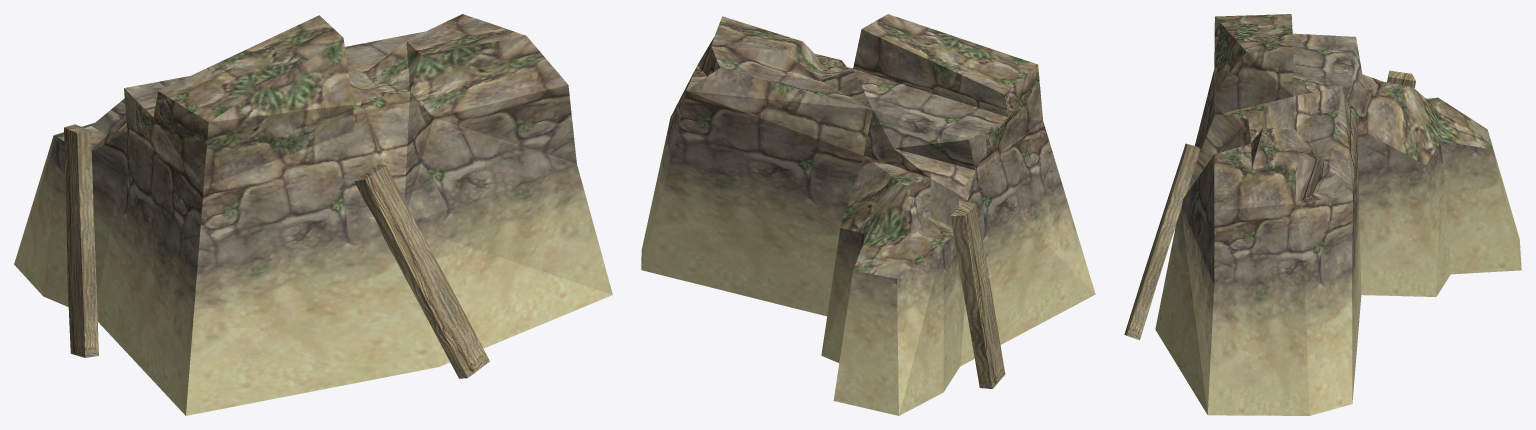
The model's file is C3SMWALLDEBRISB.obj.
The picture shows the model from 3 angles, left to right: view 1: azimuth 30°, elevation 25°; view 2: azimuth 150°, elevation 25°; view 3: azimuth 270°, elevation 25°; orthographic projection. The views are drawn at different scales.
Visible parts, largest first — view 1: Node 0; view 2: Node 0; view 3: Node 0.
Boxes of the visible parts, x1=… form: Node 0: x1=14, y1=14, x2=612, y2=415; Node 0: x1=641, y1=14, x2=1095, y2=415; Node 0: x1=1124, y1=14, x2=1521, y2=415.
Size of the model in its own units: 7.43 by 5.23 by 6.67.
Materials: 1 (1 with a texture image).
